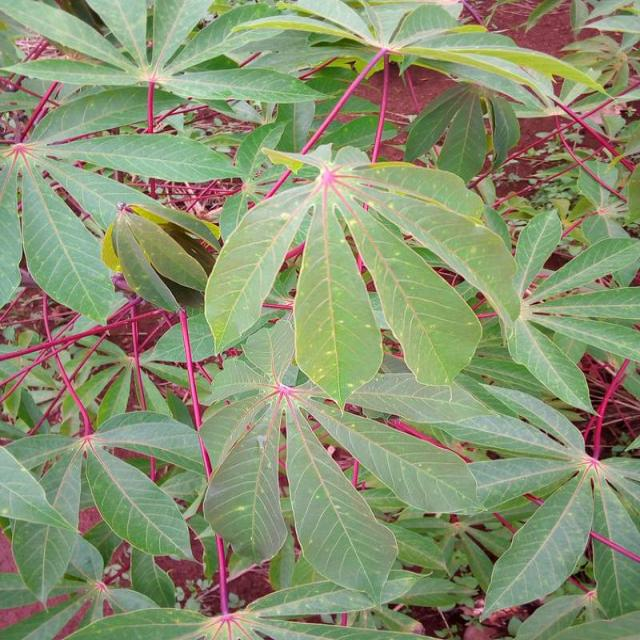cassava leaf: (0, 1, 638, 637), (202, 140, 520, 410), (292, 182, 383, 413)
